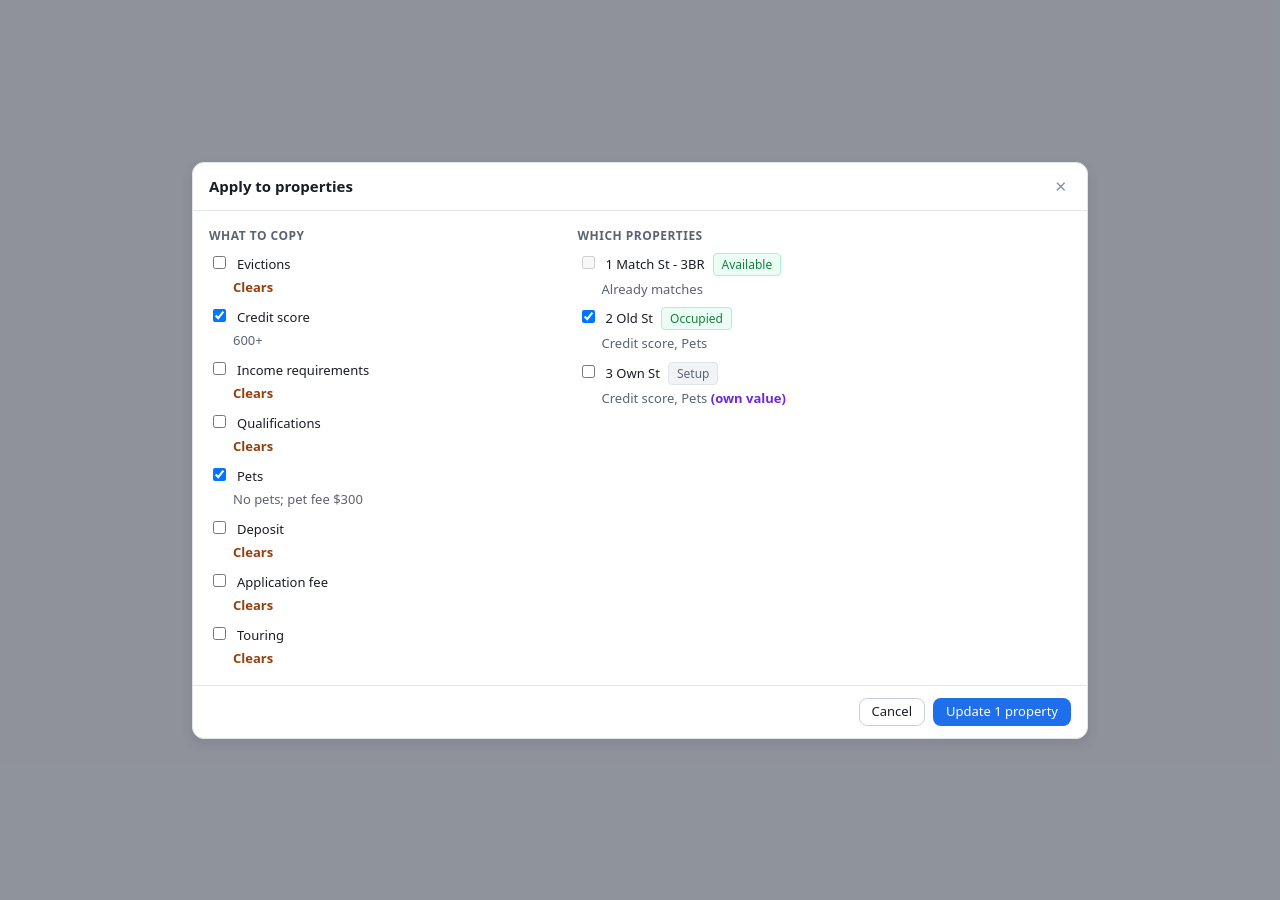
Test: ApplyRequirementsDialog - the two columns › a hand-checked row resets only when a left-column change ADDS an own value to it
Click the checkbox labelled "3 Own St". click: (588, 371)
box: left=582, top=365, right=594, bottom=378
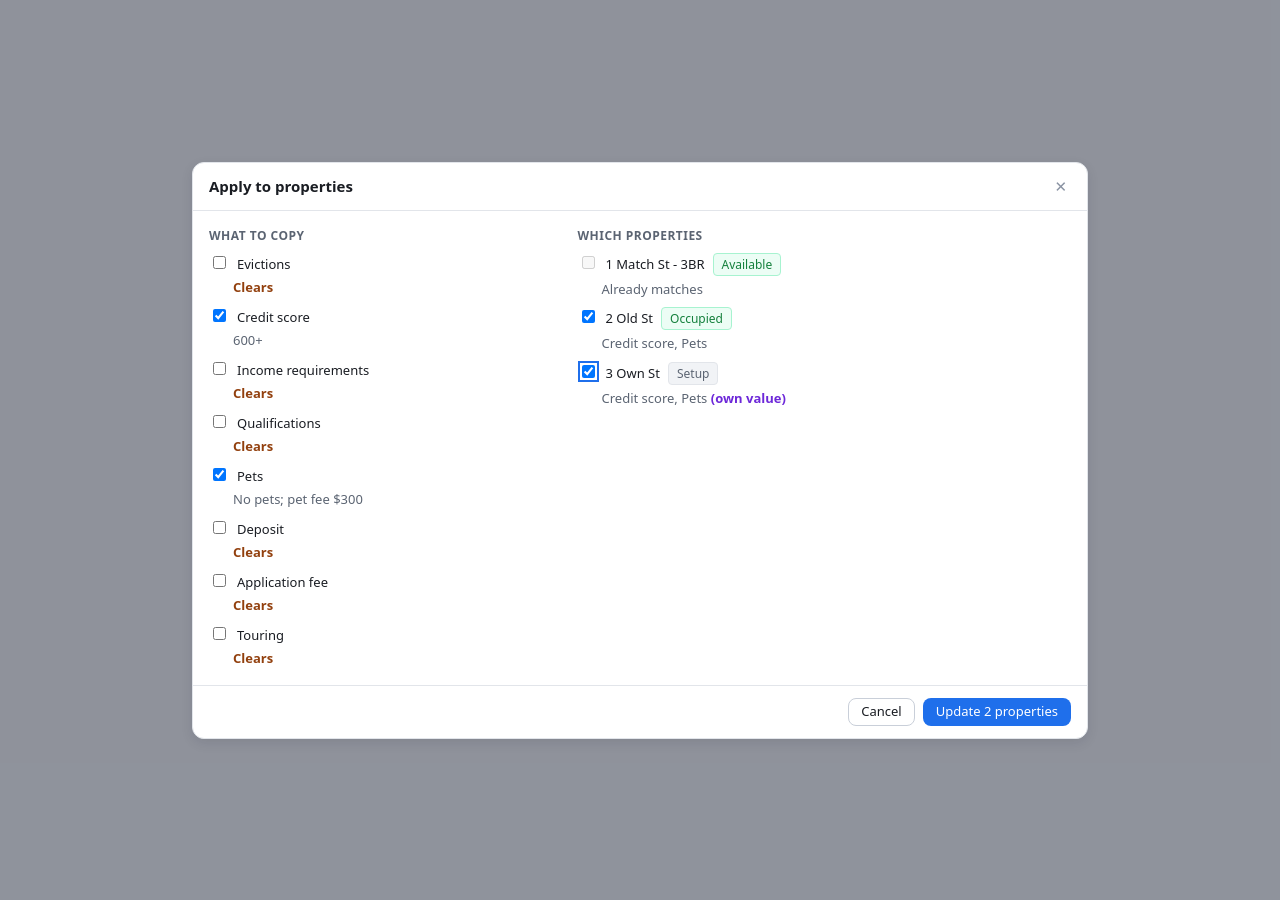
Expected: the button "Update 2 properties" is enabled, left=923, top=698, right=1071, bottom=726
Expected: the checkbox labelled "3 Own St" is checked, left=582, top=365, right=594, bottom=378
Removing an item never resets it.
Click the checkbox labelled "Credit score". click: (220, 315)
box: left=213, top=308, right=226, bottom=322
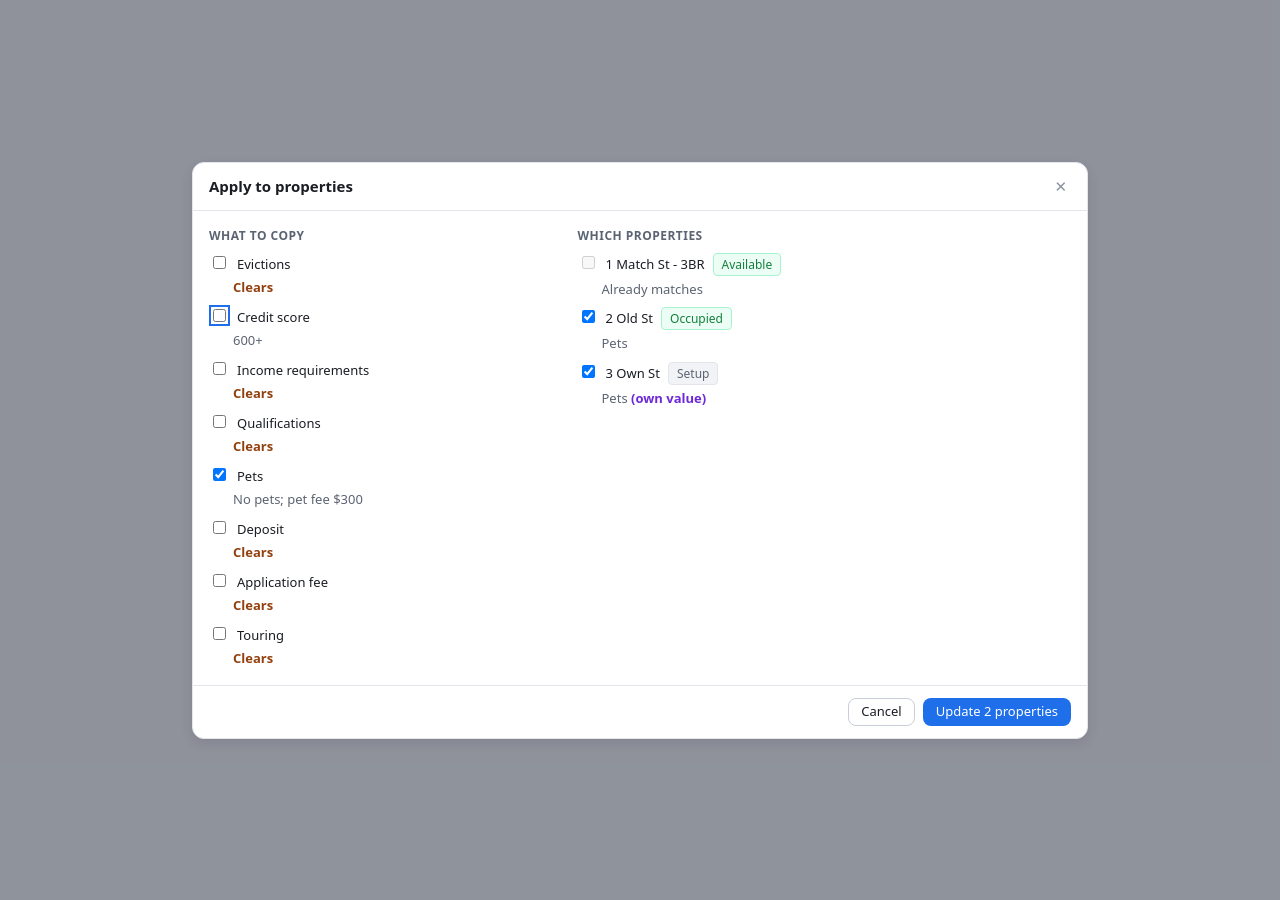
Expected: the checkbox labelled "3 Own St" is checked, left=582, top=365, right=594, bottom=378
Adding an item that is an own value here resets it: staff confirm again.
Click the checkbox labelled "Qualifications". click: (220, 421)
box: left=213, top=414, right=226, bottom=428
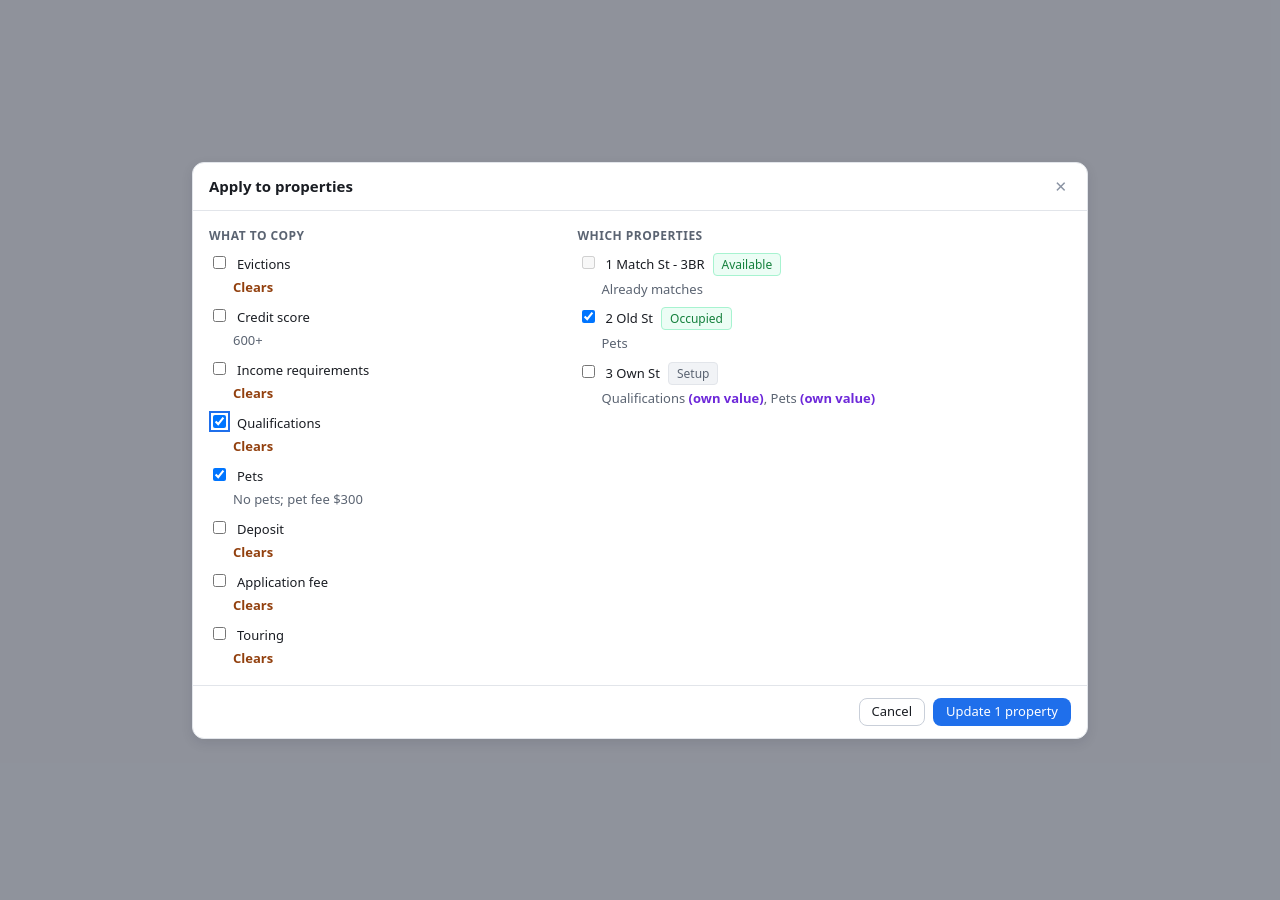
Expected: the checkbox labelled "3 Own St" is not checked, left=582, top=365, right=594, bottom=378
Expected: the list item "3 Own St" shows "Qualifications (own value), Pets (own value)", left=582, top=362, right=875, bottom=407
